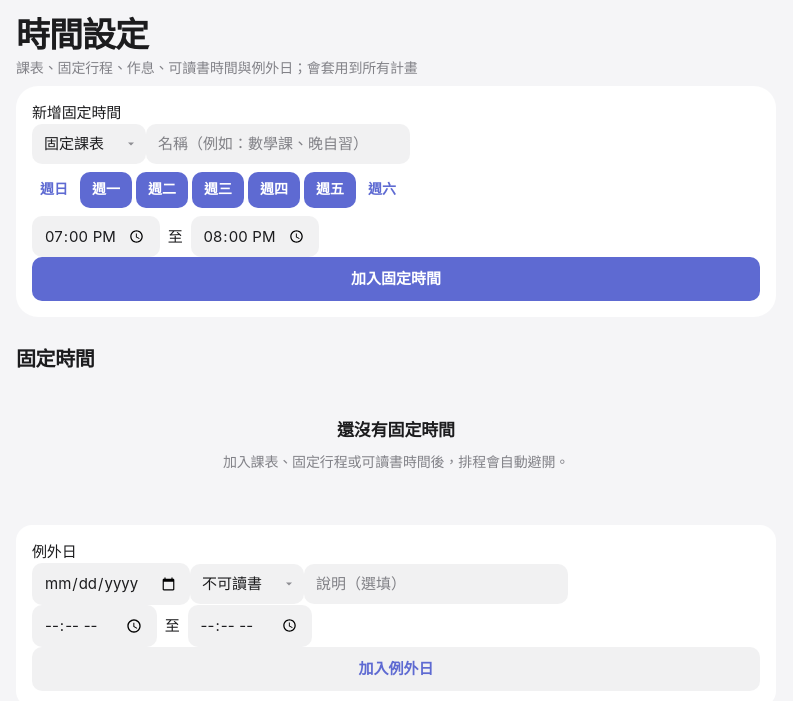
Test case: 例外日新增失敗復原 › POST 已提交但回應遺失時讀回確認且不重送
Expected: the text "還沒有固定時間" is shown, [337,420,455,440]
Type "2026-11-01" into the date field at coordinates (111, 584), box [32,563,190,605]
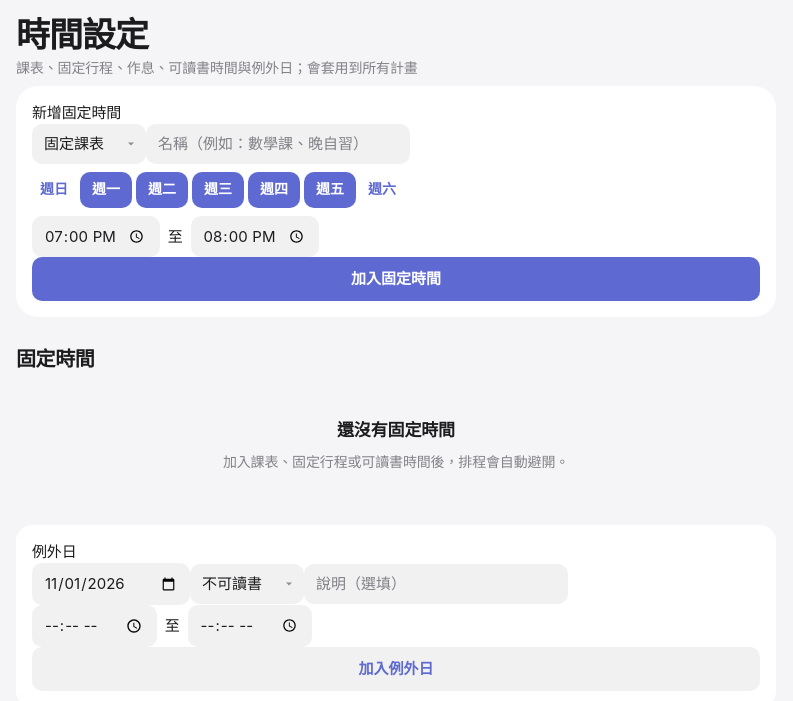
Type "校慶" into the field with placeholder "說明（選填）" at coordinates (436, 584), box [304,564,568,604]
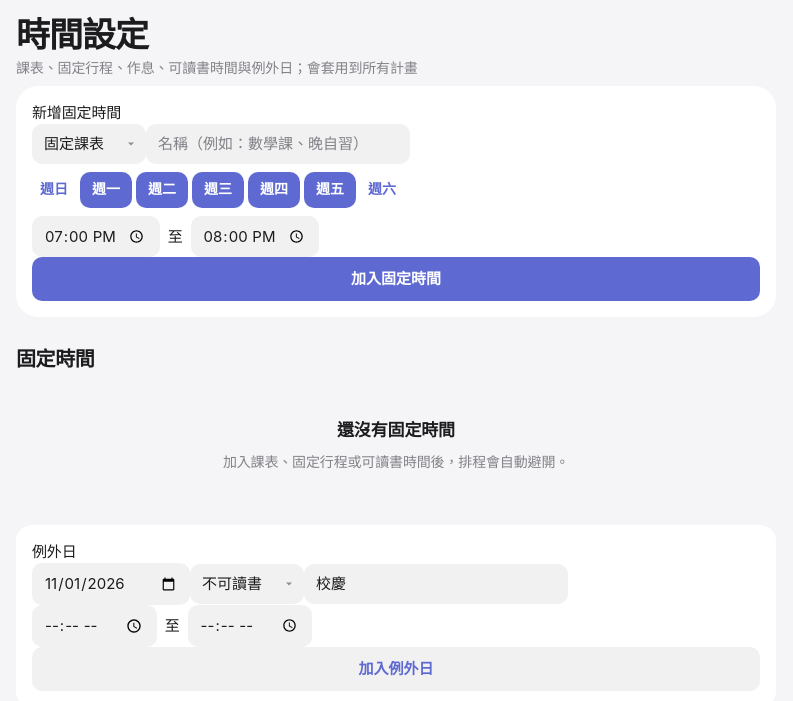
Click the button "加入例外日" at coordinates (396, 669), box [32,647,760,691]
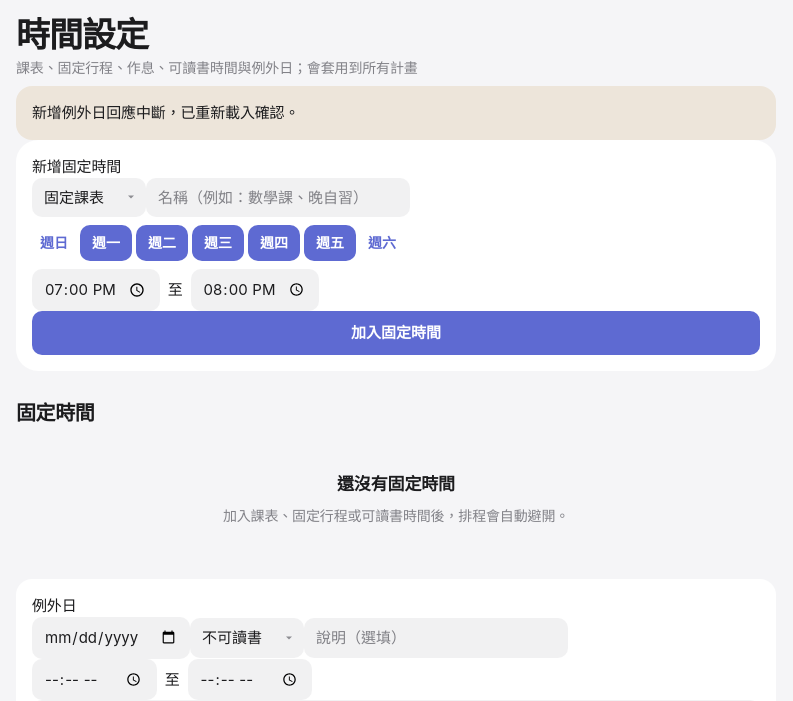
Expected: the message shows "已重新載入確認", [32,103,299,122]
